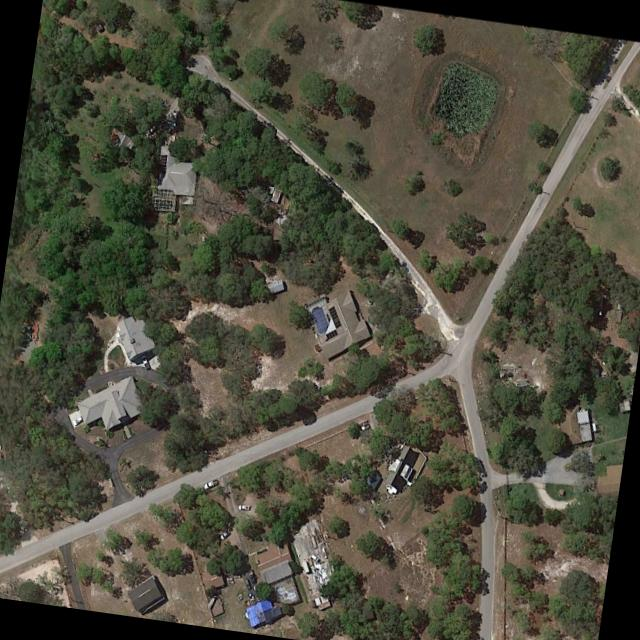large-vehicle: (138, 351, 150, 370), (203, 479, 219, 490), (356, 423, 369, 433), (237, 504, 249, 511)
small-vehicle: (246, 568, 257, 585), (143, 124, 157, 137), (70, 414, 84, 426), (218, 530, 230, 541), (242, 578, 251, 591)
